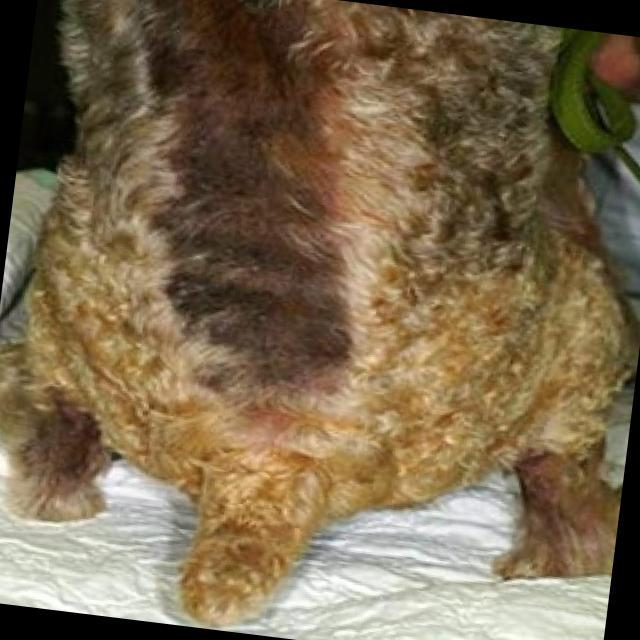allergic dermatitis: (137, 0, 355, 421)
